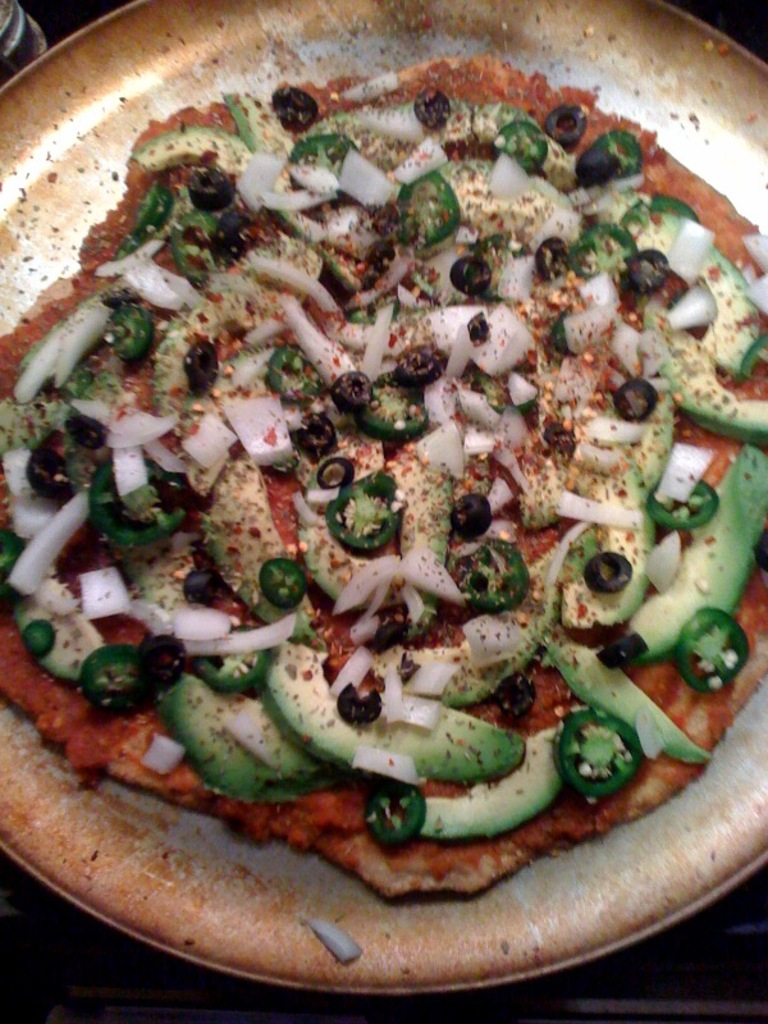Pizza: (0, 49, 765, 898)
